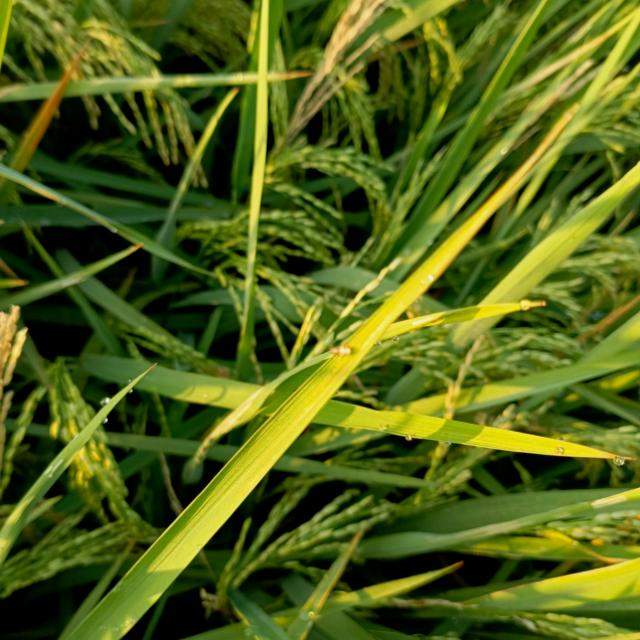Leaf scald: (329, 340, 355, 360)
